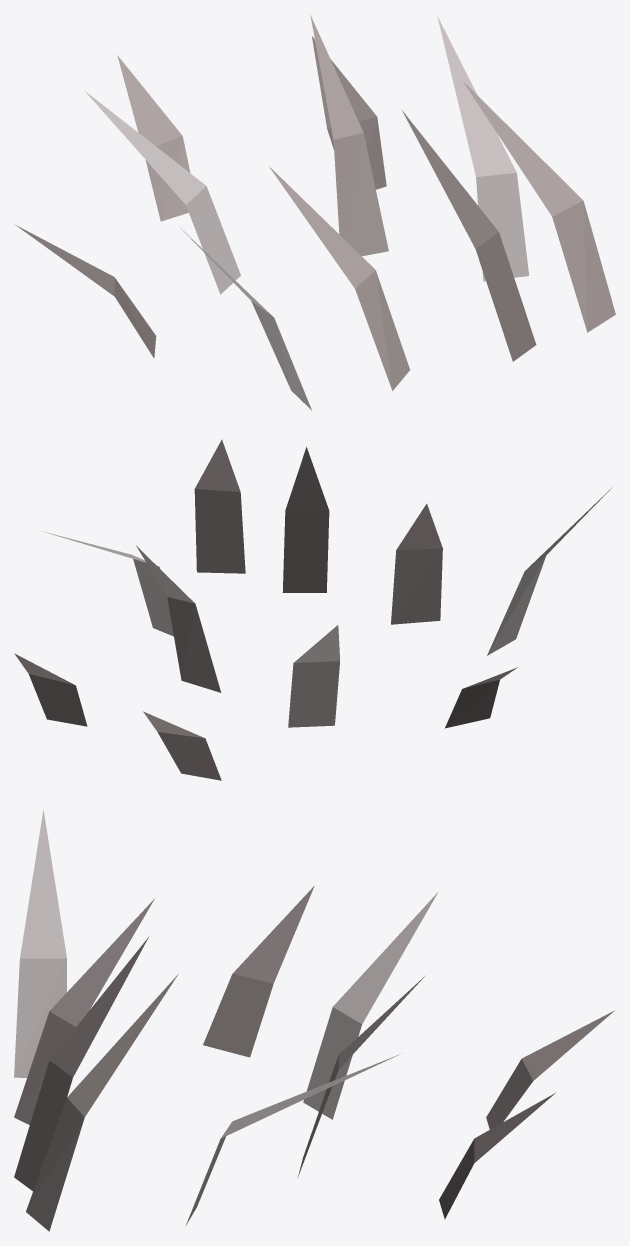
The picture shows the model from 3 angles, top to bottom: view 1: azimuth 30°, elevation 25°; view 2: azimuth 150°, elevation 25°; view 3: azimuth 270°, elevation 25°; orthographic projection. The views are drawn at different scales.
Bounding box in the file's own units: 94 × 41 × 102.
Materials: 1 (1 with a texture image).
